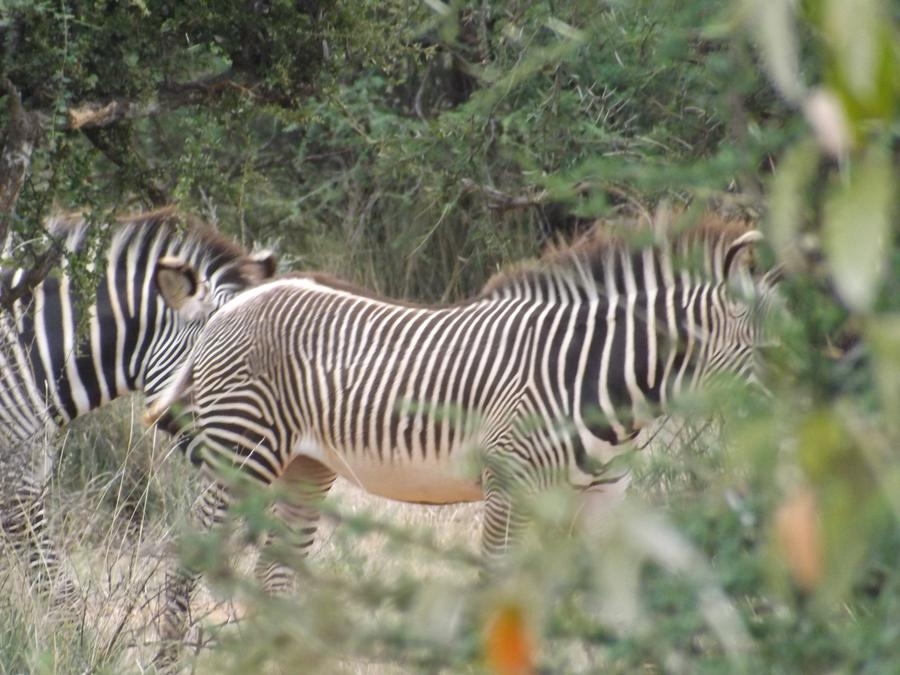zebra_grevys: (198, 249, 573, 495)
